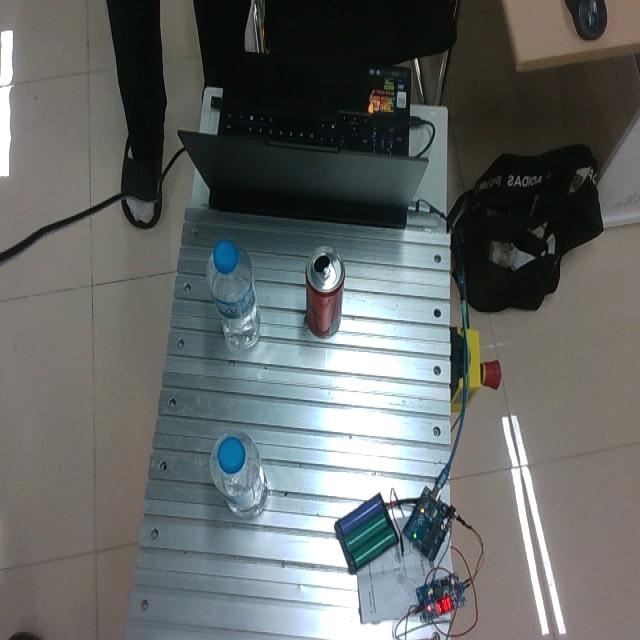coca: (305, 244, 346, 337)
lavie: (207, 238, 262, 350), (211, 430, 270, 518)
